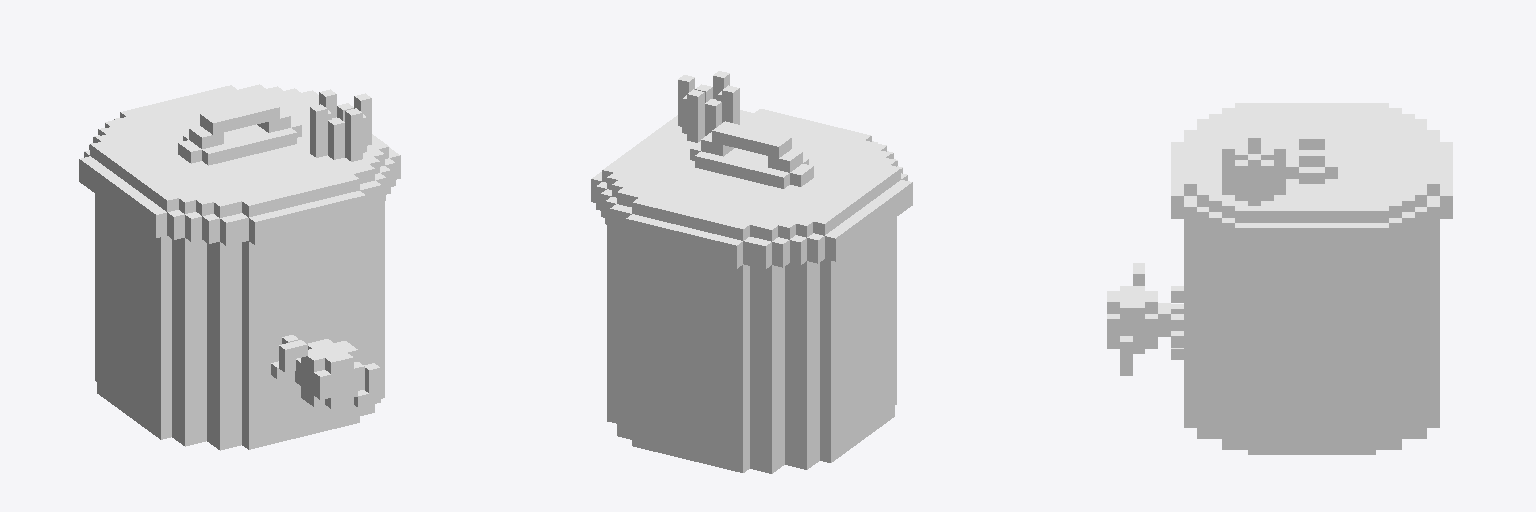
The model's file is KingofKaYasoultrak 1.obj.
The picture shows the model from 3 angles: view 1: azimuth 30°, elevation 25°; view 2: azimuth 150°, elevation 25°; view 3: azimuth 270°, elevation 25°; orthographic projection.
Parts seen in each view (by area): view 1: object 1; view 2: object 1; view 3: object 1.
Part boxes in pixels (left/top/right/bottom): object 1: left=79, top=84, right=400, bottom=450; object 1: left=591, top=71, right=912, bottom=473; object 1: left=1107, top=103, right=1452, bottom=454.
Size of the model in its own units: 2.2 by 2.5 by 2.7.